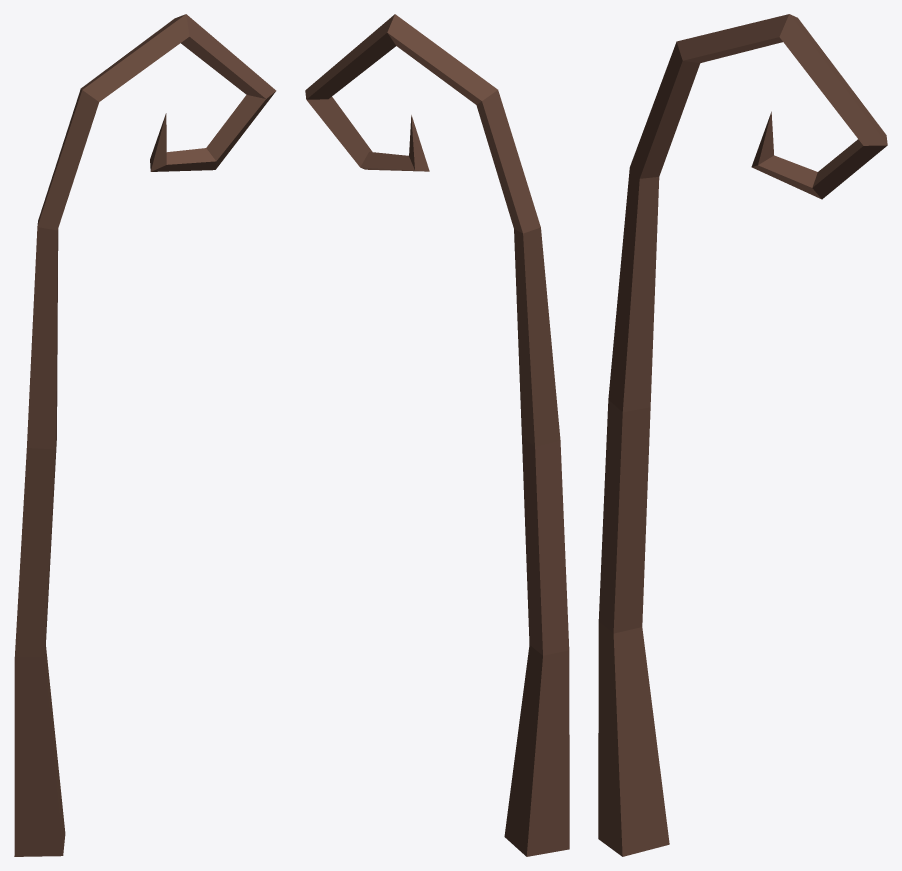
Rendered from LPHorror_TimBurtonPoleB.fbx.
The picture shows the model from 3 angles, left to right: view 1: azimuth 30°, elevation 25°; view 2: azimuth 150°, elevation 25°; view 3: azimuth 330°, elevation 25°; orthographic projection. The views are drawn at different scales.
Visible parts, largest first — view 1: TimBurtonPoleB; view 2: TimBurtonPoleB; view 3: TimBurtonPoleB.
Part boxes in pixels (bbox=[...]): TimBurtonPoleB: bbox=[14, 14, 276, 856]; TimBurtonPoleB: bbox=[305, 14, 569, 856]; TimBurtonPoleB: bbox=[598, 14, 887, 856].
Size of the model in its own units: 107 by 309 by 23.61.
